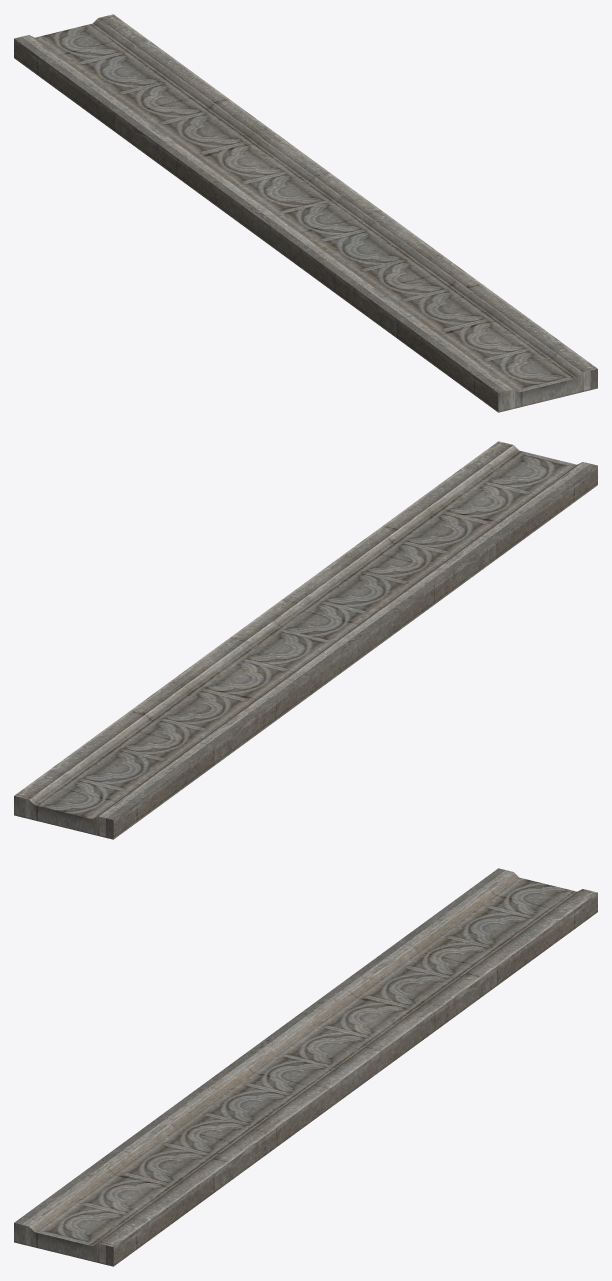
Rendered from bg_lut_lucastle_castleborder04_sm_phs.FBX.
3 views of the same model, one above another, from view 1: azimuth 30°, elevation 25°; view 2: azimuth 150°, elevation 25°; view 3: azimuth 330°, elevation 25° (orthographic).
Parts seen in each view (by area): view 1: bg_lut_lucastle_castleborder04_sm_phs; view 2: bg_lut_lucastle_castleborder04_sm_phs; view 3: bg_lut_lucastle_castleborder04_sm_phs.
Boxes of the visible parts, bbox=[...] form: bg_lut_lucastle_castleborder04_sm_phs: bbox=[14, 14, 597, 412]; bg_lut_lucastle_castleborder04_sm_phs: bbox=[14, 441, 597, 839]; bg_lut_lucastle_castleborder04_sm_phs: bbox=[14, 868, 597, 1266].
Size of the model in its own units: 60.75 by 11.41 by 512.
